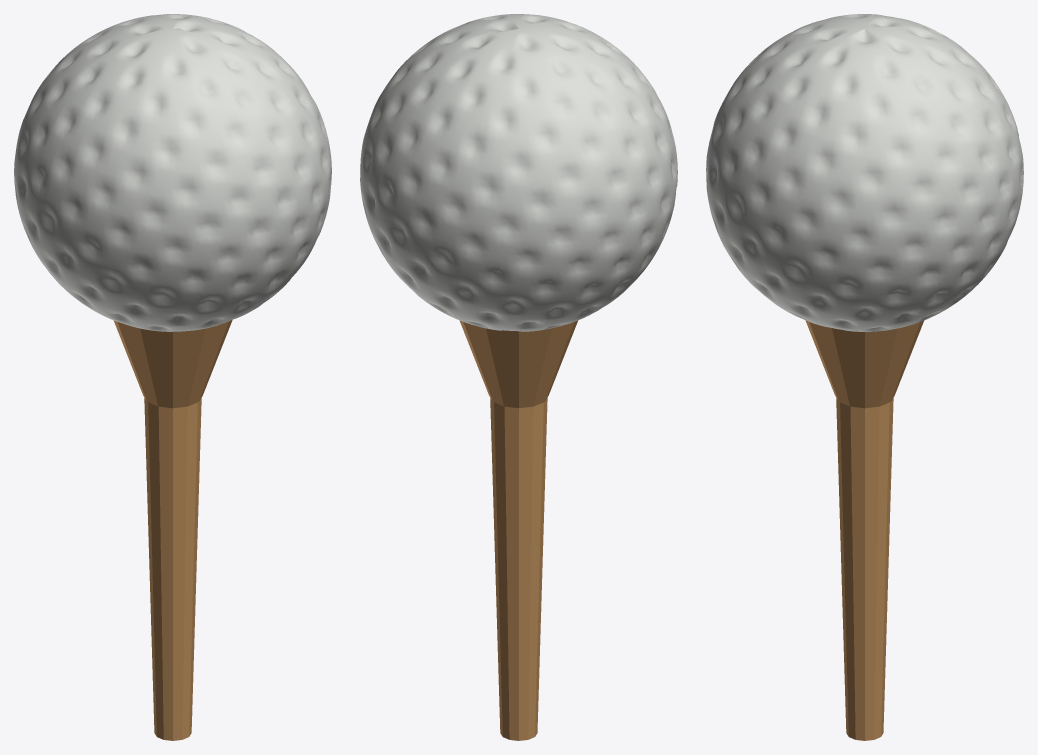
Rendered from golf.glb.
3 views of the same model, side by side, from view 1: azimuth 30°, elevation 25°; view 2: azimuth 150°, elevation 25°; view 3: azimuth 270°, elevation 25° (orthographic).
Visible parts, largest first — view 1: golf; view 2: golf; view 3: golf.
Part boxes in pixels (box(x1,y1,x2,y2)): golf: box(14, 14, 331, 740); golf: box(360, 14, 677, 740); golf: box(706, 14, 1023, 740).
Bounding box in the file's own units: 0.0427 × 0.1044 × 0.0427.
